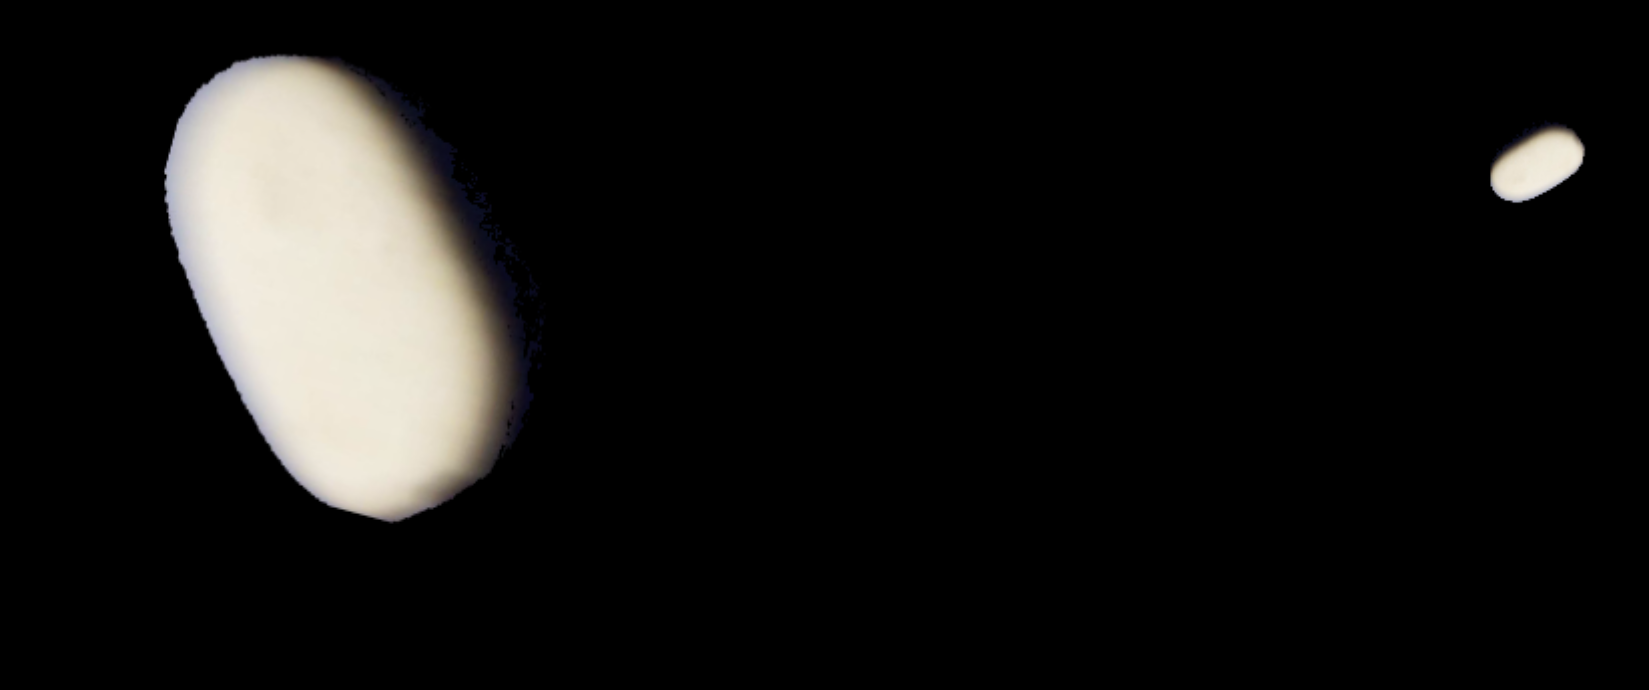test: (85, 14, 613, 555), (1483, 110, 1589, 214)
